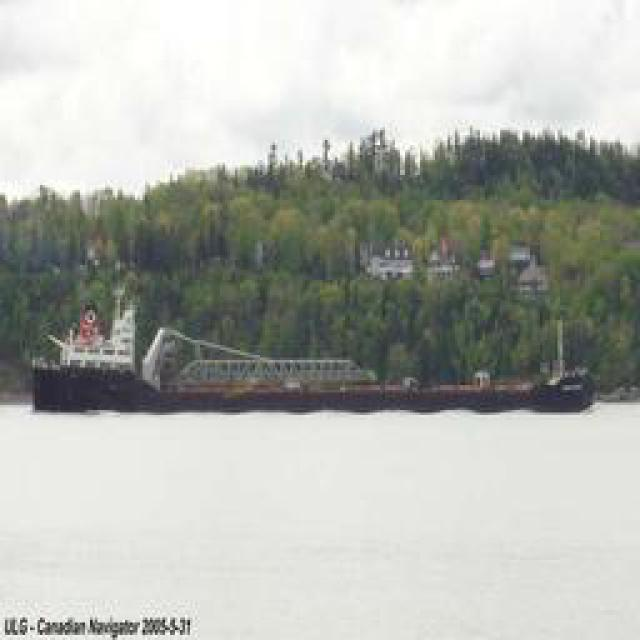Ship: (28, 255, 605, 427)
